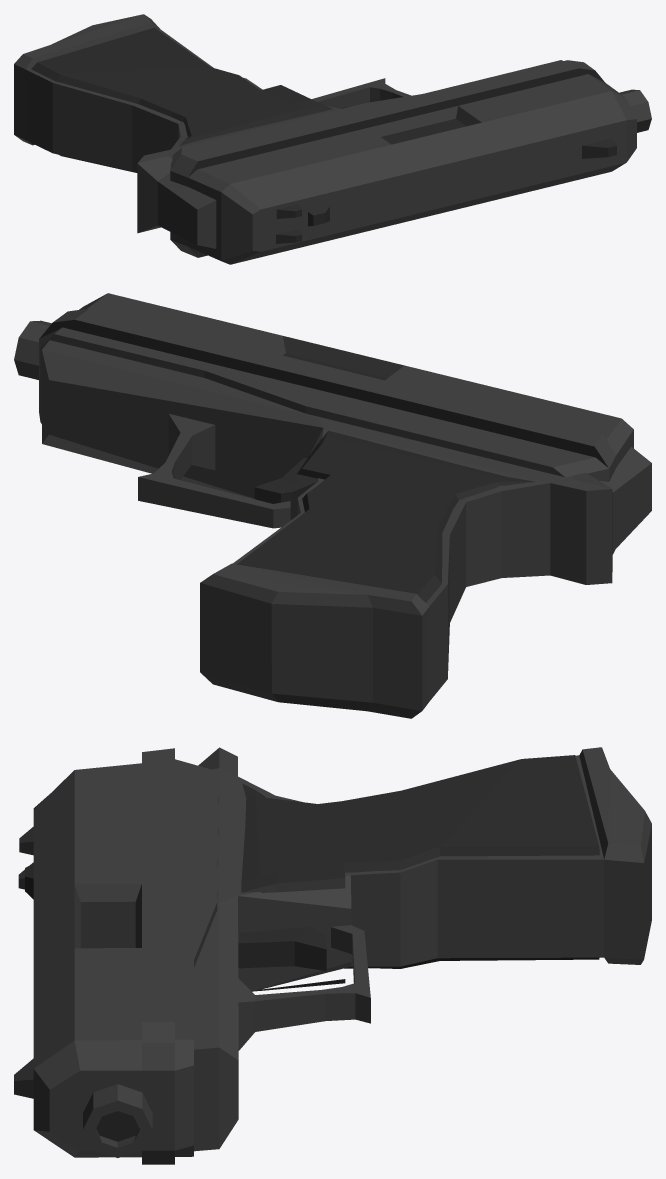
File: HiPoint_3D.glb
3 views of the same model, one above another, from view 1: azimuth 30°, elevation 25°; view 2: azimuth 150°, elevation 25°; view 3: azimuth 270°, elevation 25° (orthographic). The views are drawn at different scales.
Visible parts, largest first — view 1: hipoint; view 2: hipoint; view 3: hipoint.
Part boxes in pixels (<box>): hipoint: <box>14,14,651,264</box>; hipoint: <box>14,293,651,718</box>; hipoint: <box>14,747,651,1164</box>.
Bounding box in the file's own units: 0.213 × 0.042 × 0.1734.
1 material, 1 textured.
